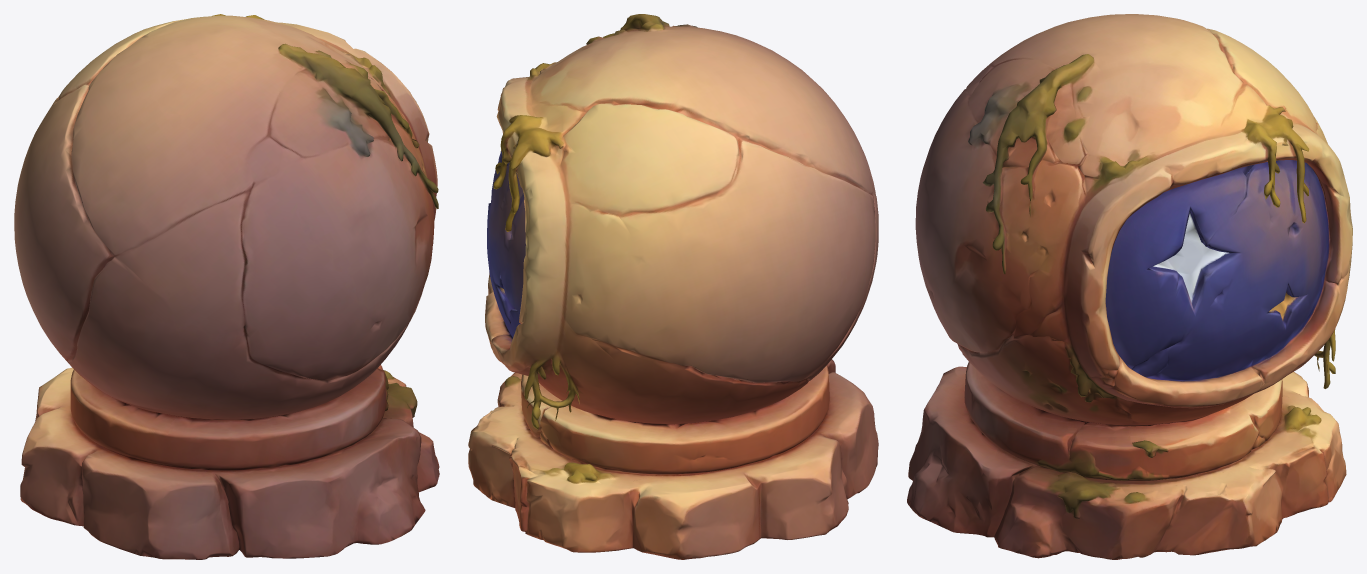
Rendered from helmet-face.glb.
3 views of the same model, side by side, from view 1: azimuth 30°, elevation 25°; view 2: azimuth 150°, elevation 25°; view 3: azimuth 270°, elevation 25° (orthographic). The views are drawn at different scales.
Parts seen in each view (by area): view 1: tripo_node_564e7135-6088-4a1b-a633-5d5984df92de; view 2: tripo_node_564e7135-6088-4a1b-a633-5d5984df92de; view 3: tripo_node_564e7135-6088-4a1b-a633-5d5984df92de.
Boxes of the visible parts, x1,y1,x2,y2 form: tripo_node_564e7135-6088-4a1b-a633-5d5984df92de: (14, 14, 439, 559); tripo_node_564e7135-6088-4a1b-a633-5d5984df92de: (468, 14, 878, 559); tripo_node_564e7135-6088-4a1b-a633-5d5984df92de: (907, 14, 1352, 559).
Bounding box in the file's own units: 0.8807 × 0.9817 × 0.8942.
Materials: 1 (1 with a texture image).
